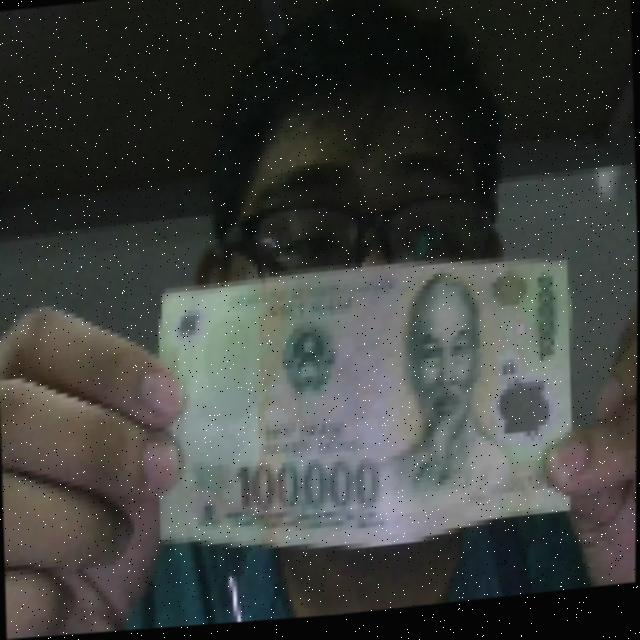100 000 VND: (144, 241, 584, 577)
